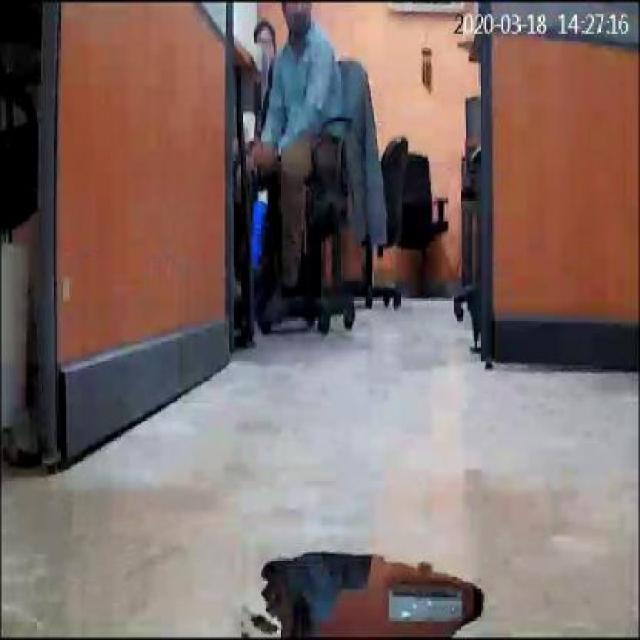spill: (260, 548, 485, 636)
